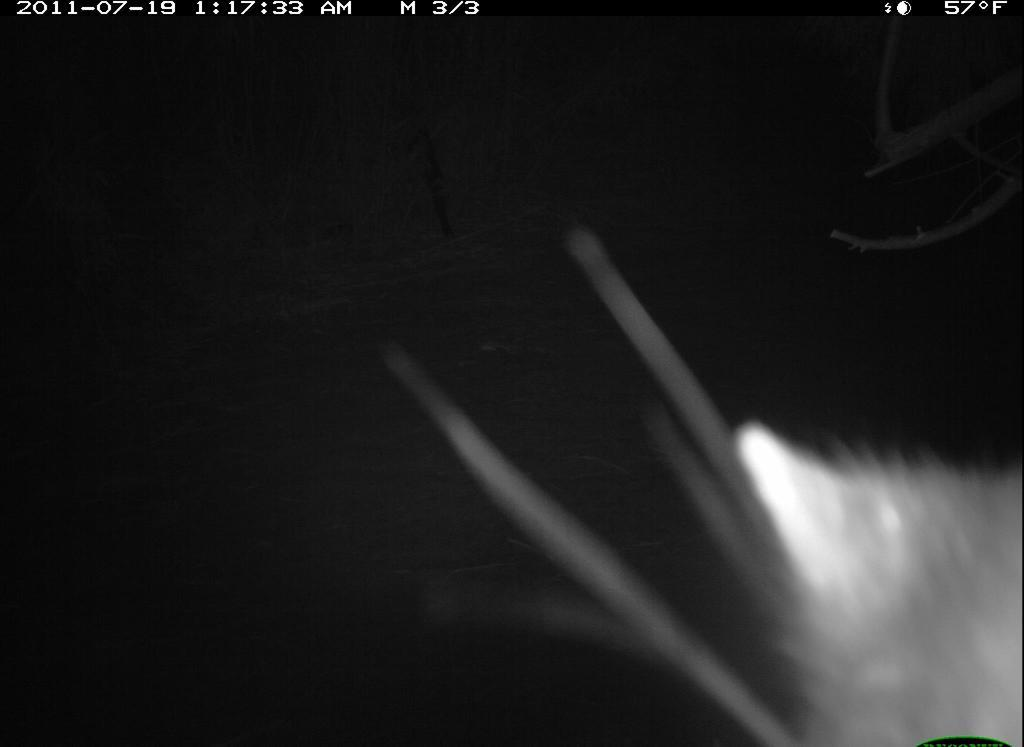raccoon: (706, 404, 1023, 747)
